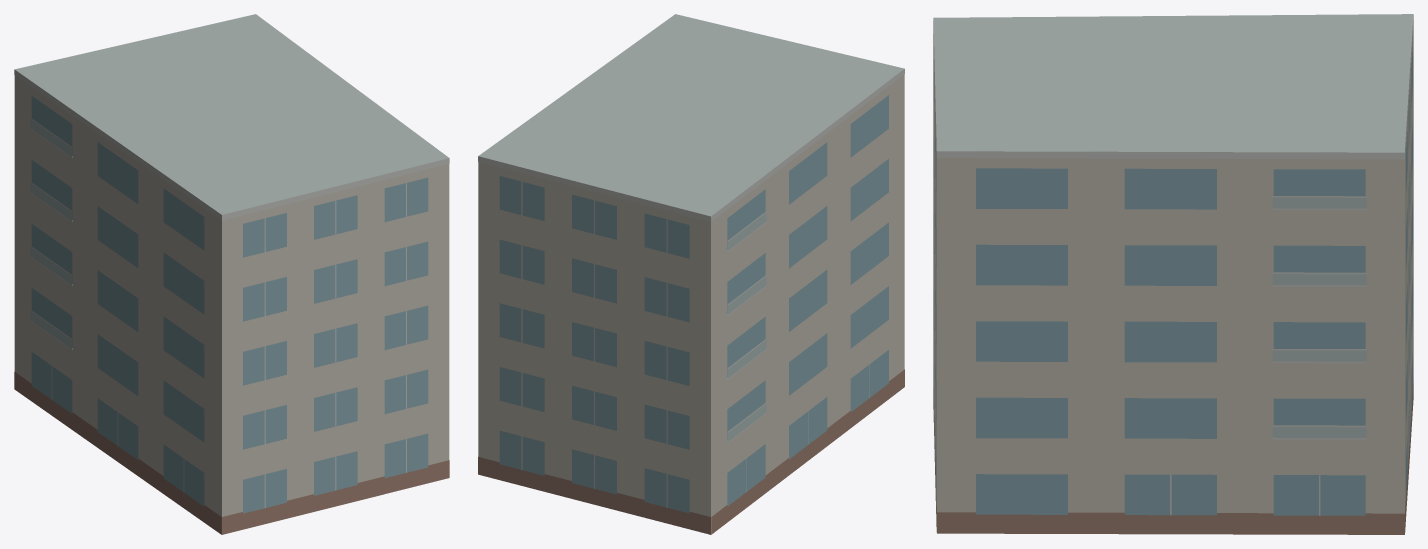
File: survey-upis-32832824.glb
3 views of the same model, side by side, from view 1: azimuth 30°, elevation 25°; view 2: azimuth 150°, elevation 25°; view 3: azimuth 270°, elevation 25° (orthographic). The views are drawn at different scales.
Parts seen in each view (by area): view 1: survey-upis-32832824.tmp; view 2: survey-upis-32832824.tmp; view 3: survey-upis-32832824.tmp.
Part boxes in pixels (bbox=[...]): survey-upis-32832824.tmp: bbox=[14, 14, 449, 534]; survey-upis-32832824.tmp: bbox=[478, 14, 904, 534]; survey-upis-32832824.tmp: bbox=[933, 14, 1413, 534].
Size of the model in its own units: 10.74 by 13.75 by 15.66.
